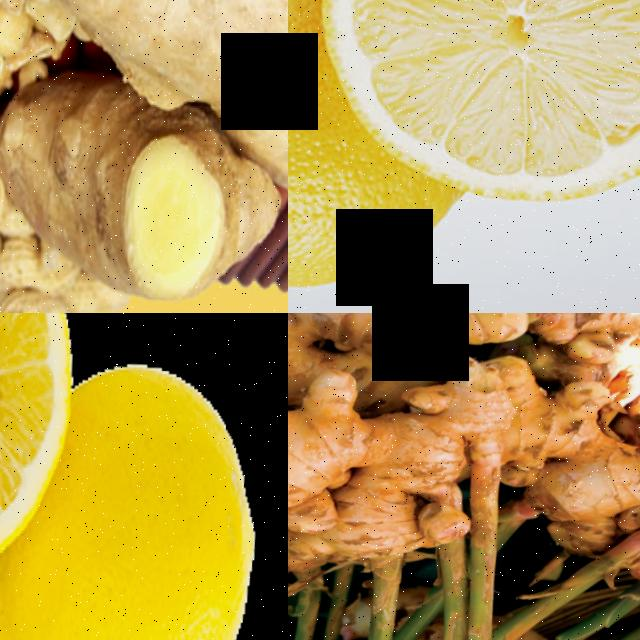ginger: (53, 85, 277, 264), (288, 364, 471, 558), (43, 0, 288, 119), (488, 346, 640, 520), (288, 313, 432, 402)
lemon: (46, 346, 280, 640), (383, 0, 640, 215), (0, 313, 98, 582), (288, 0, 357, 310)
peanuts: (5, 234, 88, 292), (0, 281, 83, 313), (0, 89, 16, 224)
